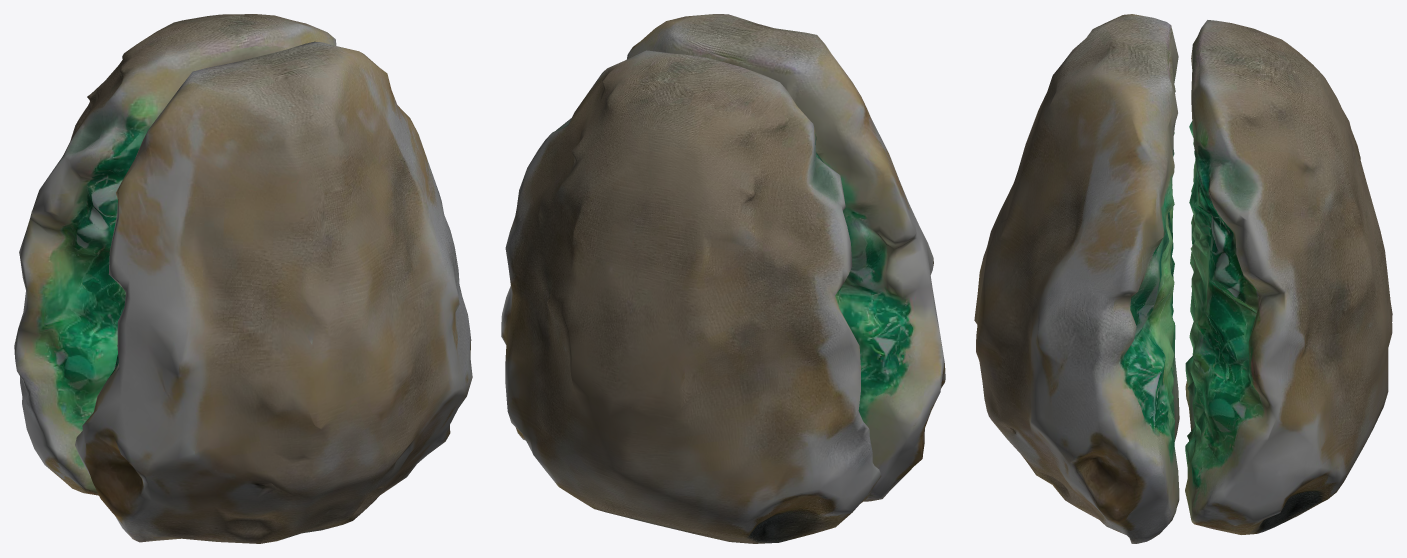
Rendered from stone_3d.fbx.
3 views of the same model, side by side, from view 1: azimuth 30°, elevation 25°; view 2: azimuth 150°, elevation 25°; view 3: azimuth 270°, elevation 25° (orthographic). The views are drawn at different scales.
Visible parts, largest first — view 1: tripo_node_b54ebf84; view 2: tripo_node_b54ebf84; view 3: tripo_node_b54ebf84.
Part boxes in pixels (<box>): tripo_node_b54ebf84: <box>14,14,472,543</box>; tripo_node_b54ebf84: <box>501,14,945,543</box>; tripo_node_b54ebf84: <box>974,14,1392,543</box>.
Bounding box in the file's own units: 0.8768 × 0.9983 × 0.8487.
1 material, 1 textured.
